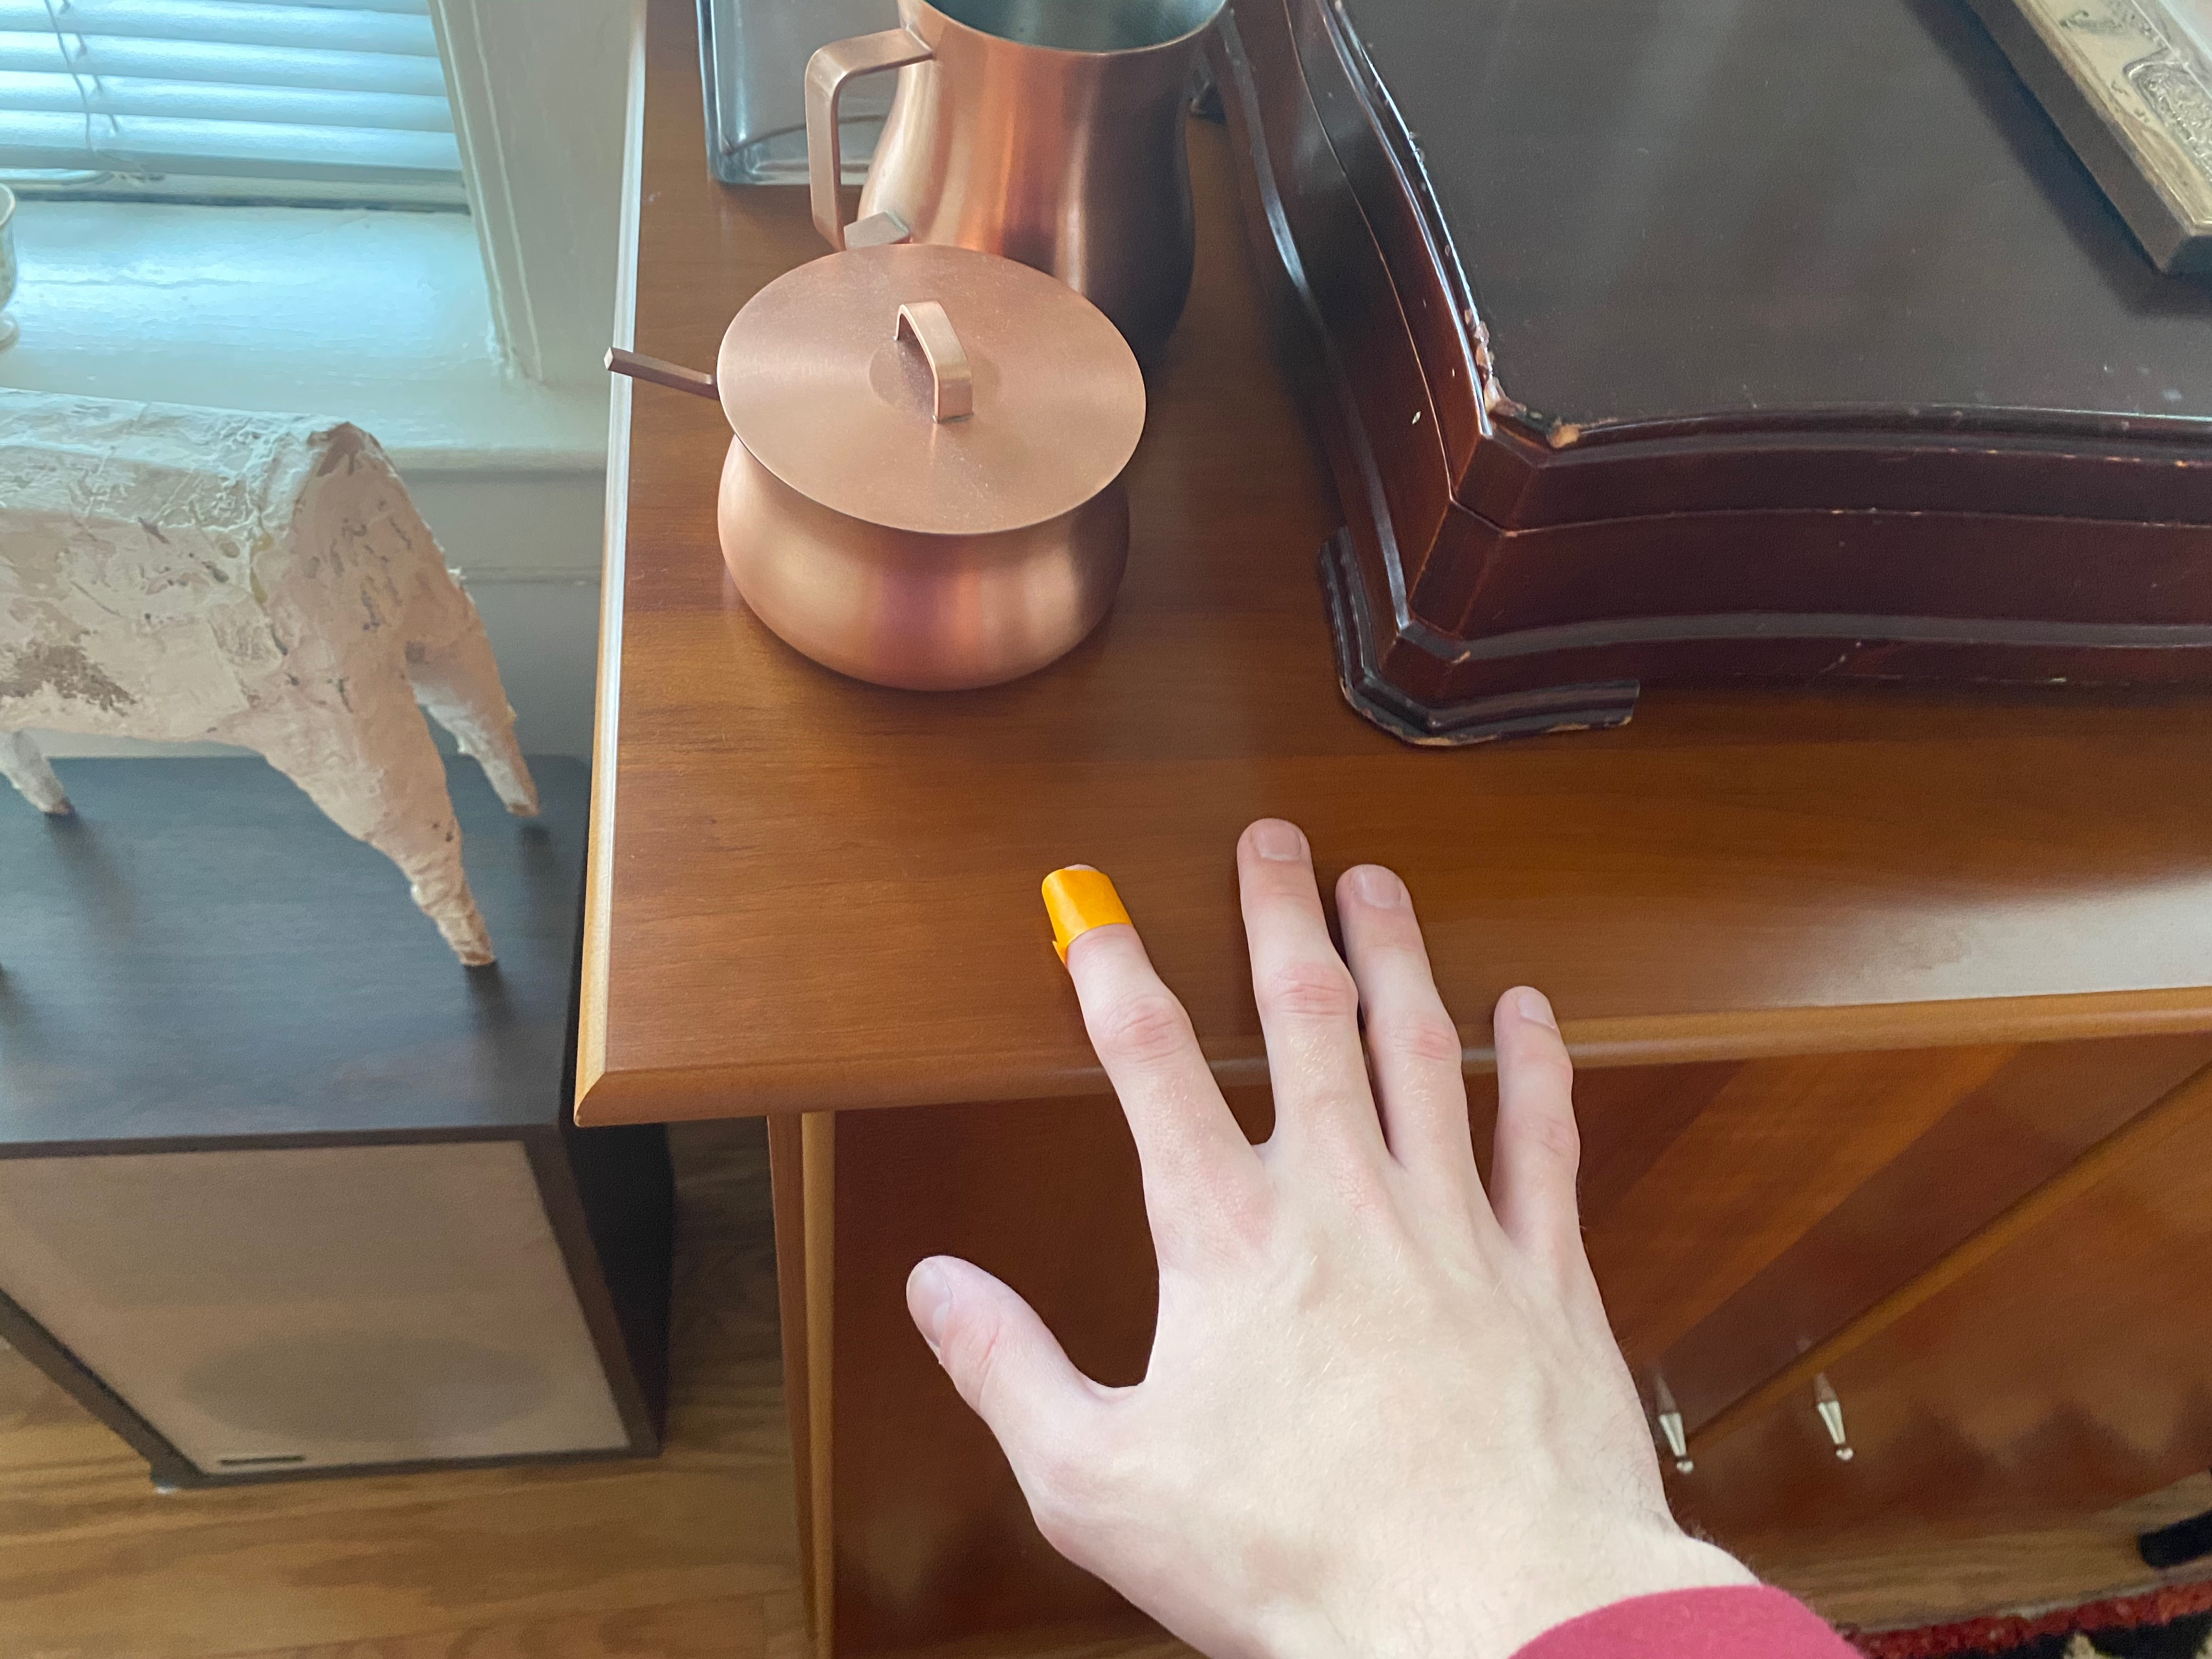fingertip: (1031, 861, 1165, 974)
